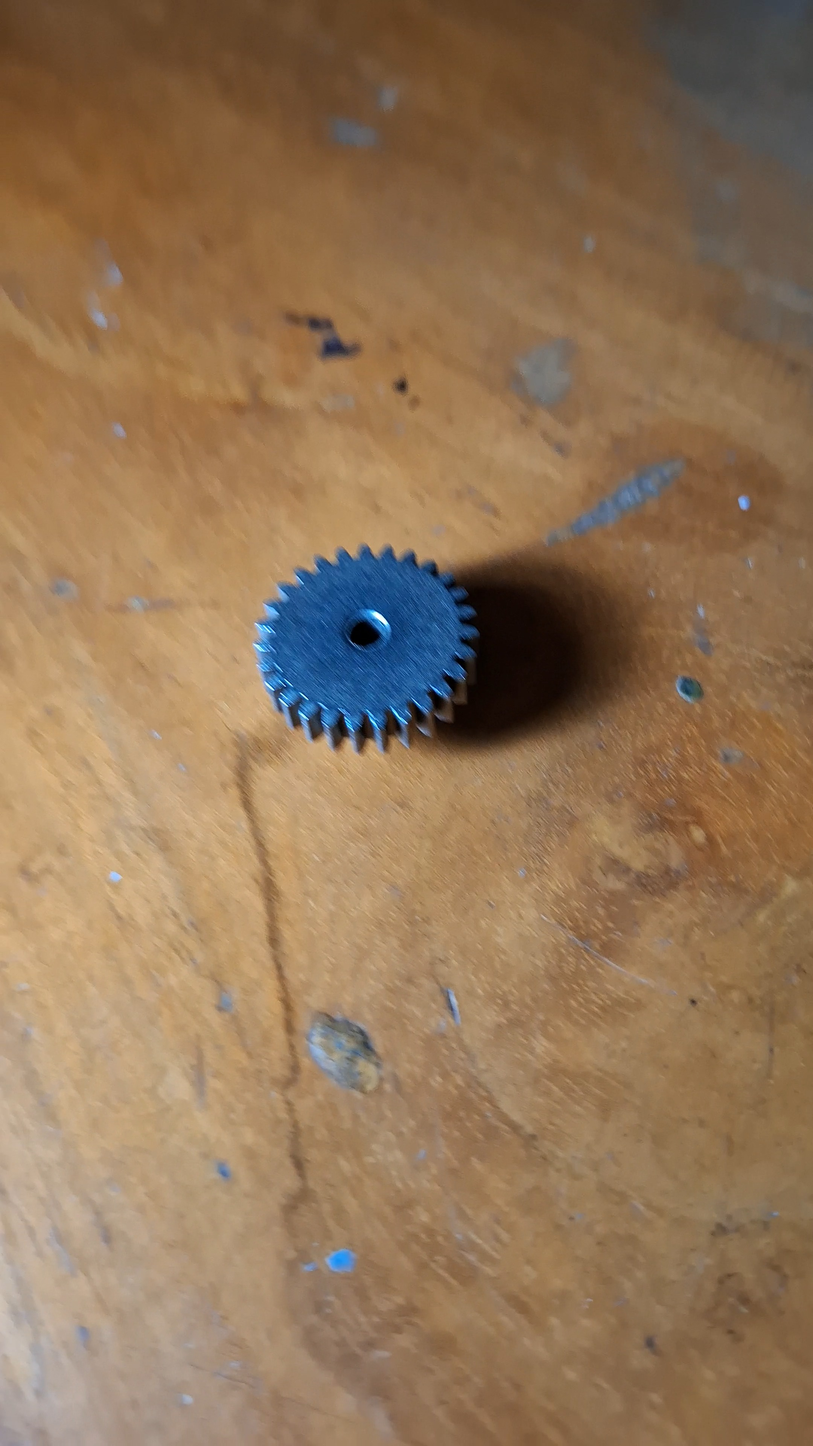spur gear: (254, 546, 478, 750)
